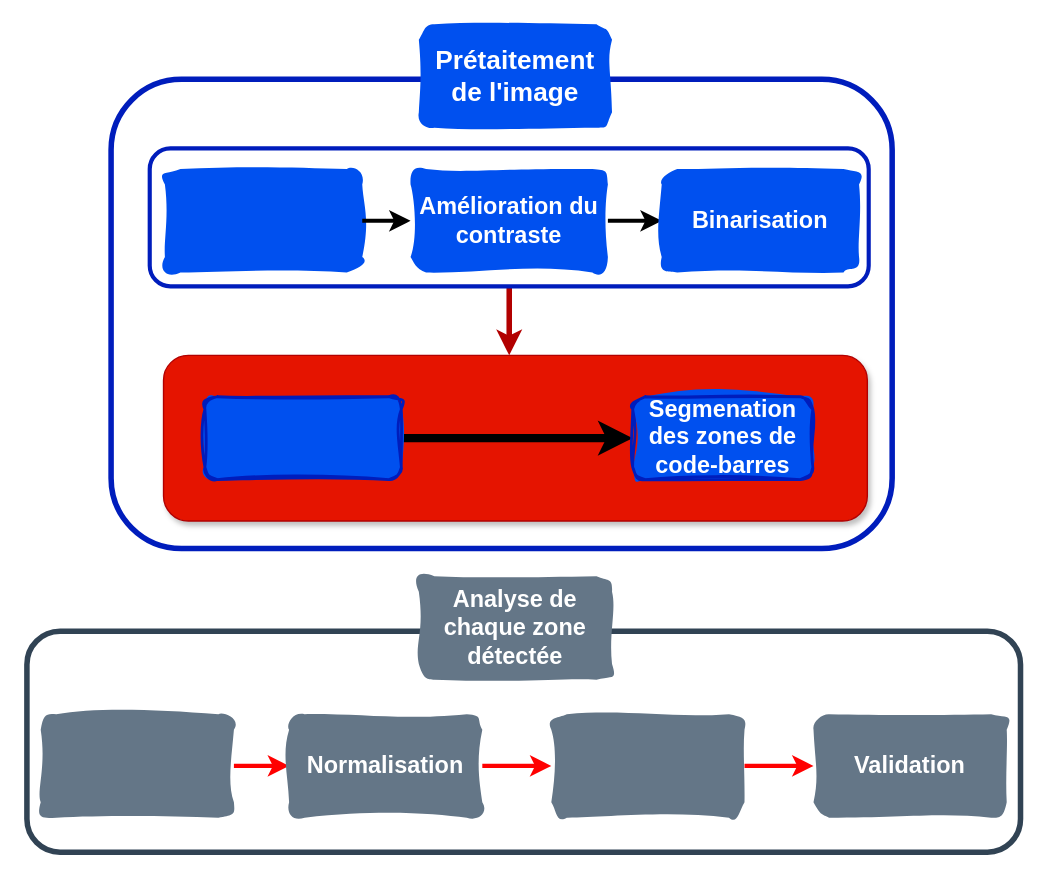
This 1046x887 diagram has some shape labels left out. Each missing label, with the centre of its shape:
"Correction de la rotaion" goes at point (302, 437).
"Dé-bruitage" goes at point (263, 220).
"Décodage" goes at point (647, 765).
"Mesures" goes at point (136, 765).
